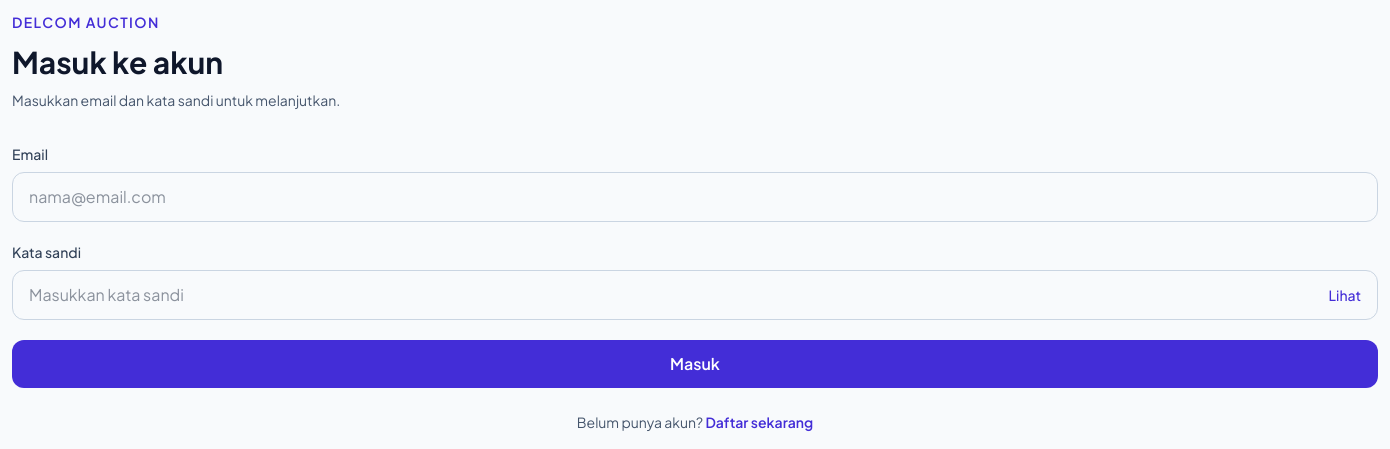
Scenario: LoginPage › toggle lihat/sembunyikan kata sandi
Click the button "Lihat" at point(1345, 295), box [1313,271,1377,319]
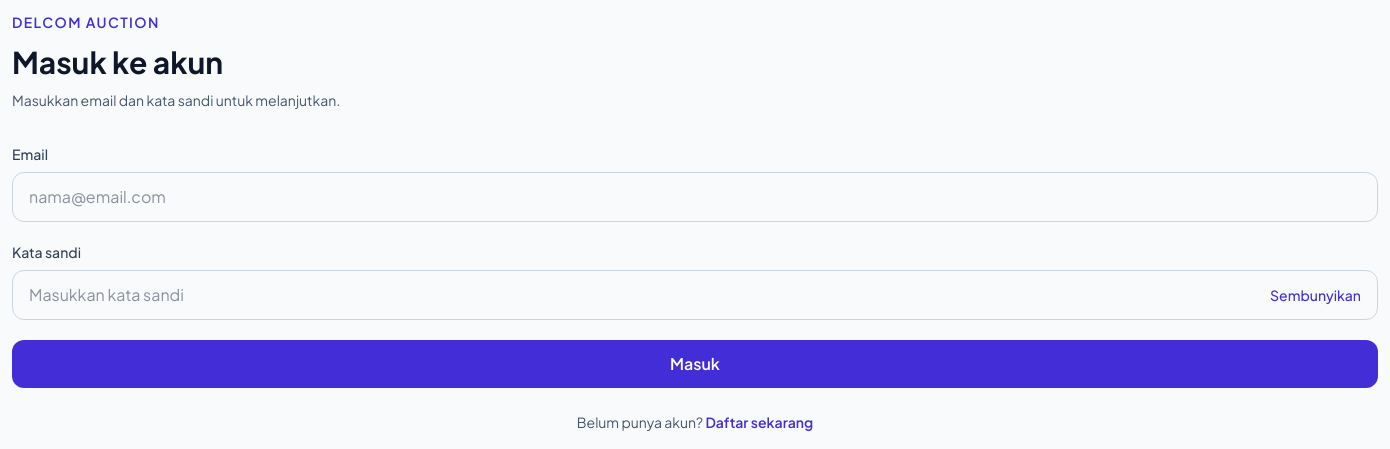
Expected: the button "Sembunyikan" is shown, [1254,271,1377,319]
